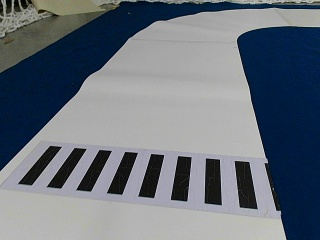crosswalk: (19, 144, 278, 211)
